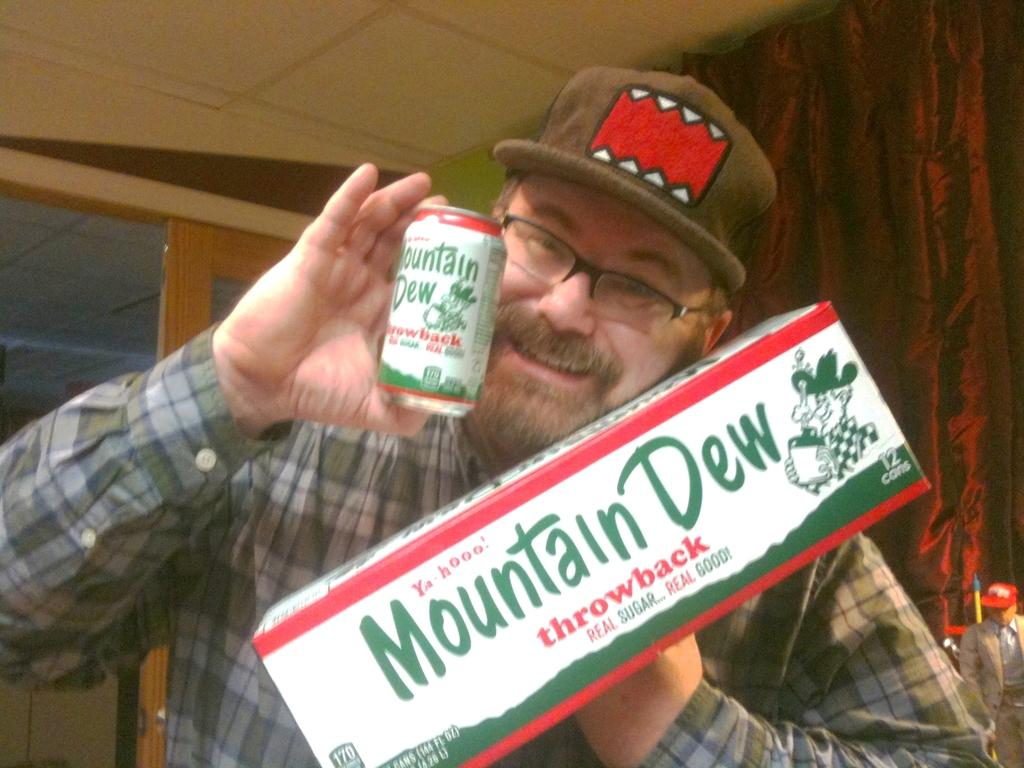Hat: (492, 62, 782, 294)
